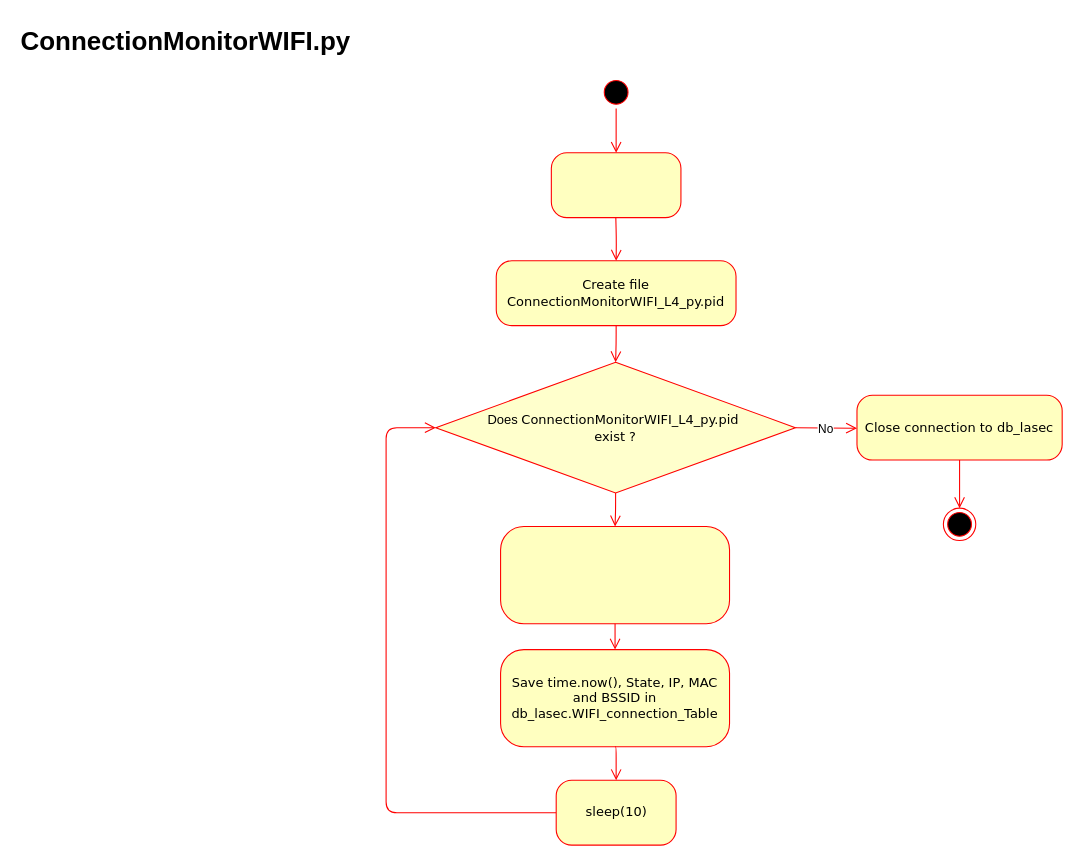
This 1081x864 diagram has some shape labels left out. Each missing label, with the box of its shape:
Connect to database db_lasec: (550, 152, 681, 218)
Get State, IP, MAC and BSSID from wpa_cli: (500, 525, 730, 624)
